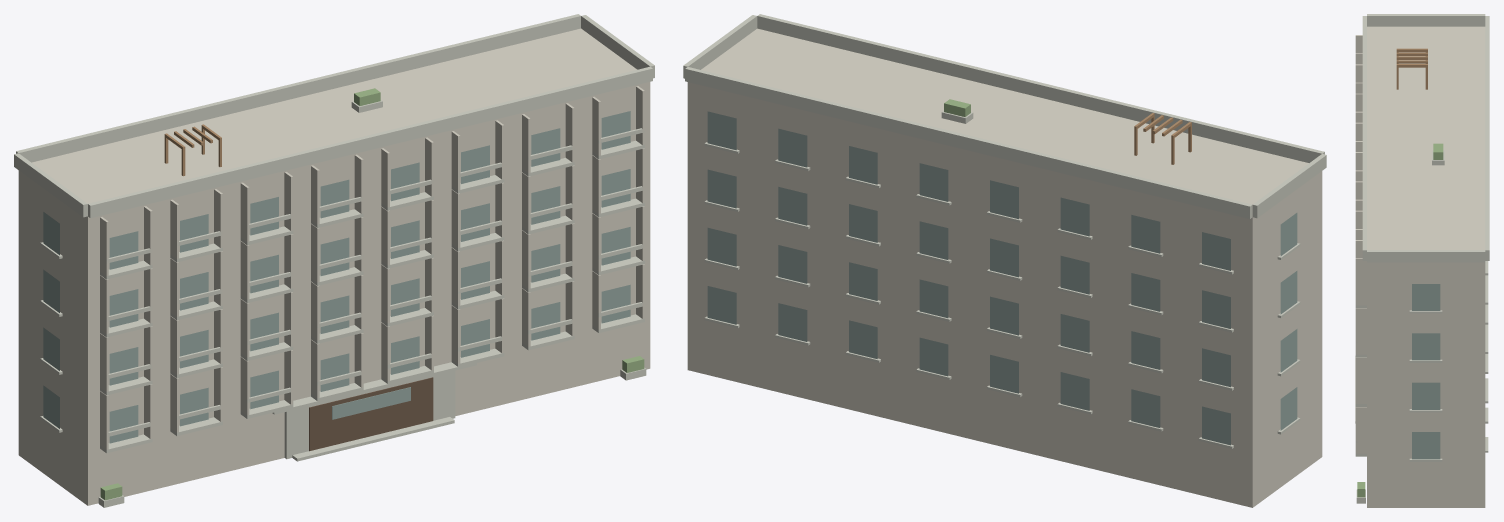
Rendered from residential_4x1_b.glb.
3 renders of one model, left to right at view 1: azimuth 30°, elevation 25°; view 2: azimuth 150°, elevation 25°; view 3: azimuth 270°, elevation 25°, orthographic. The views are drawn at different scales.
Parts seen in each view (by area): view 1: residential_4x1_b_0; view 2: residential_4x1_b_0; view 3: residential_4x1_b_0.
Boxes of the visible parts, x1=… form: residential_4x1_b_0: x1=14, y1=14, x2=654, y2=507; residential_4x1_b_0: x1=683, y1=14, x2=1326, y2=507; residential_4x1_b_0: x1=1355, y1=14, x2=1489, y2=507.
Size of the model in its own units: 31 by 16.5 by 7.4.
